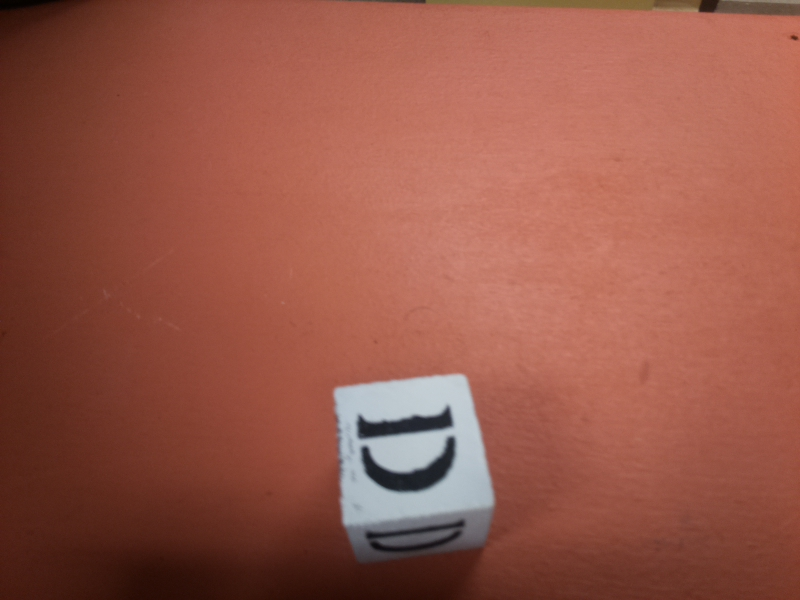blockD: (332, 371, 494, 566)
